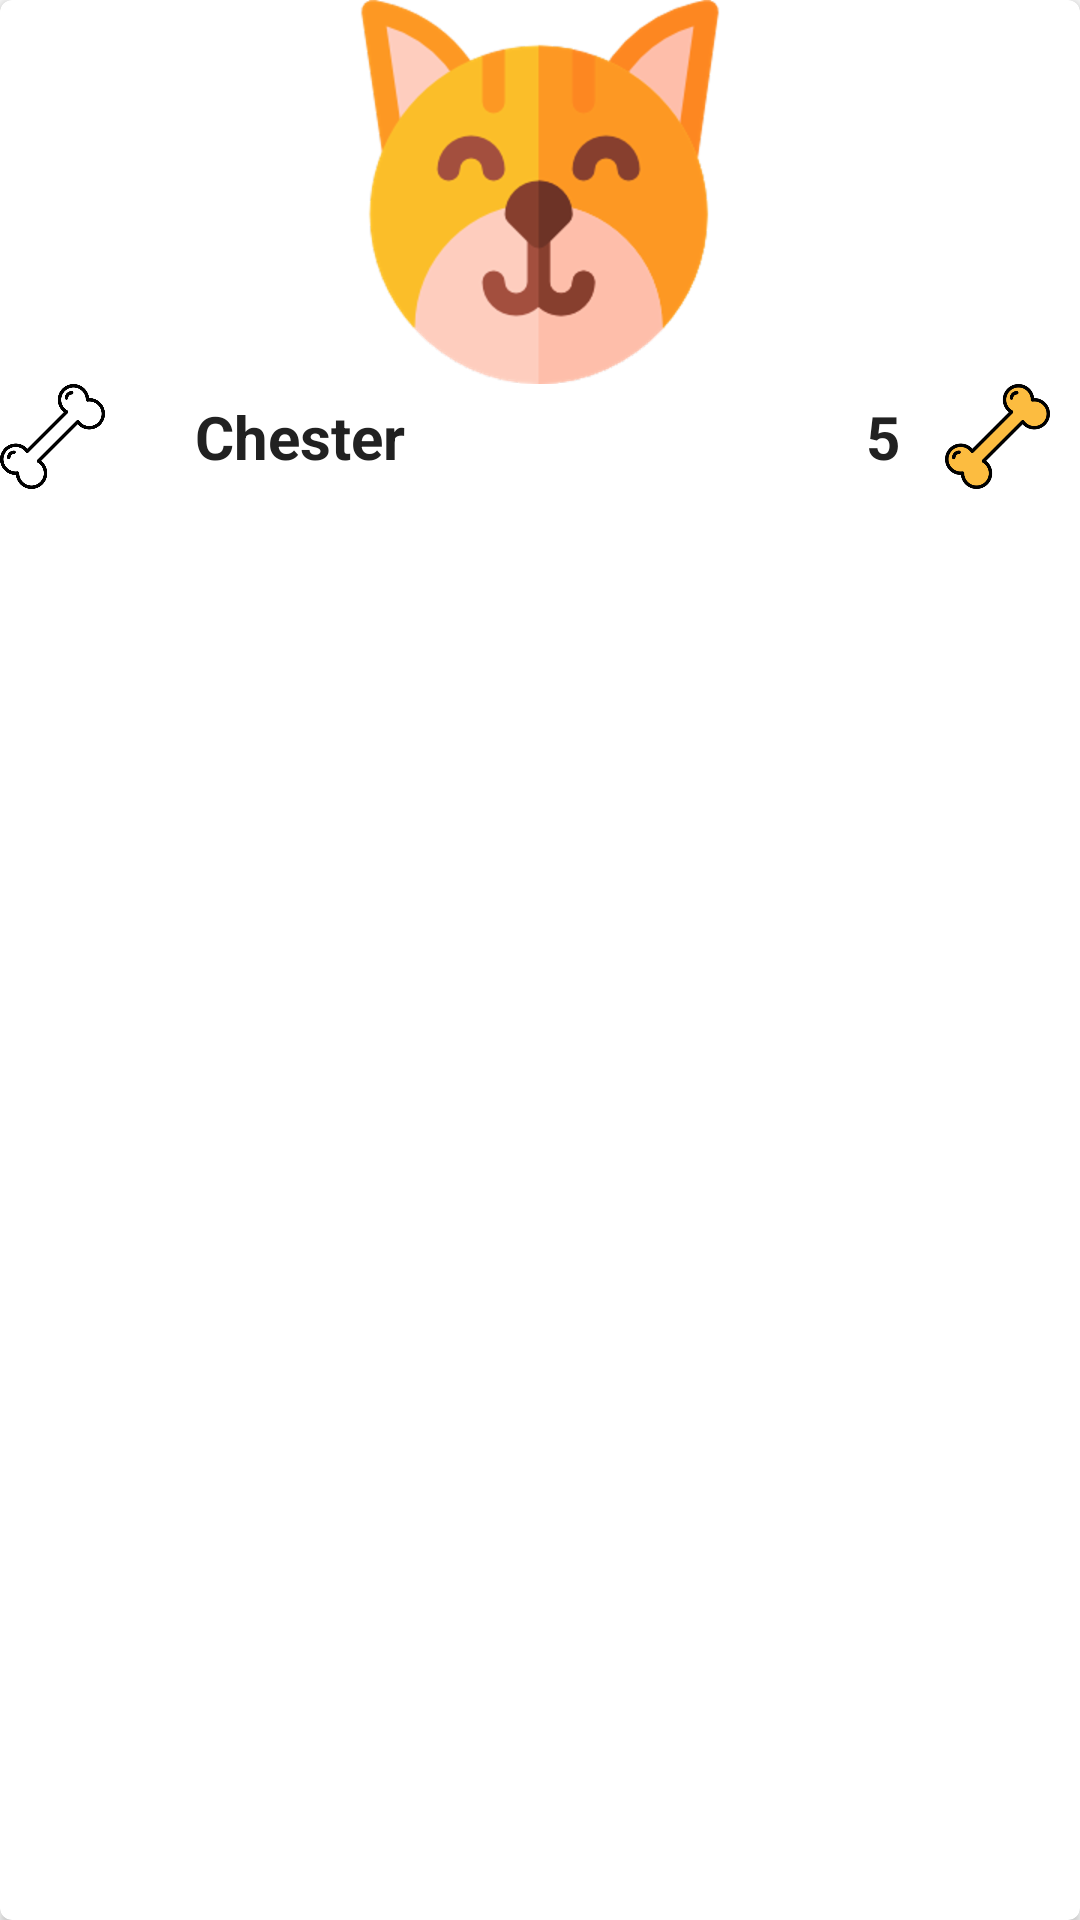

Icons on this 1080x1920 Android screen, each with its box as (x1, y1, x2, y2):
hueso: (0, 384, 105, 489)
huesos: (945, 384, 1050, 489)
